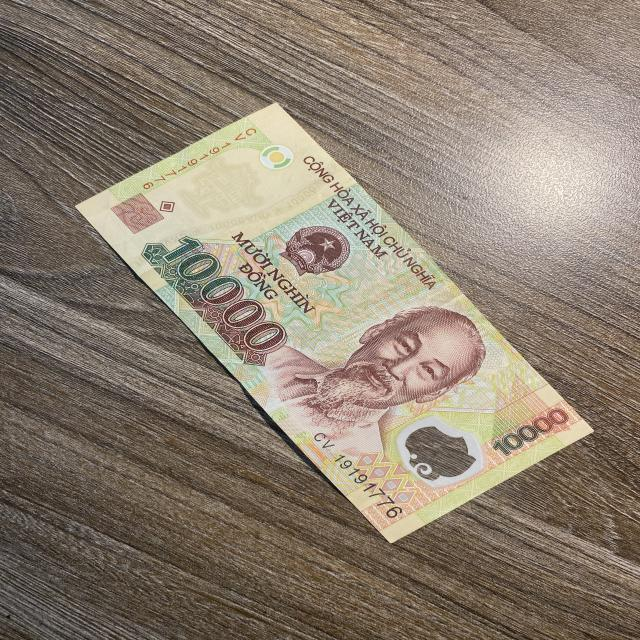10 000 VND: (74, 102, 596, 546)
